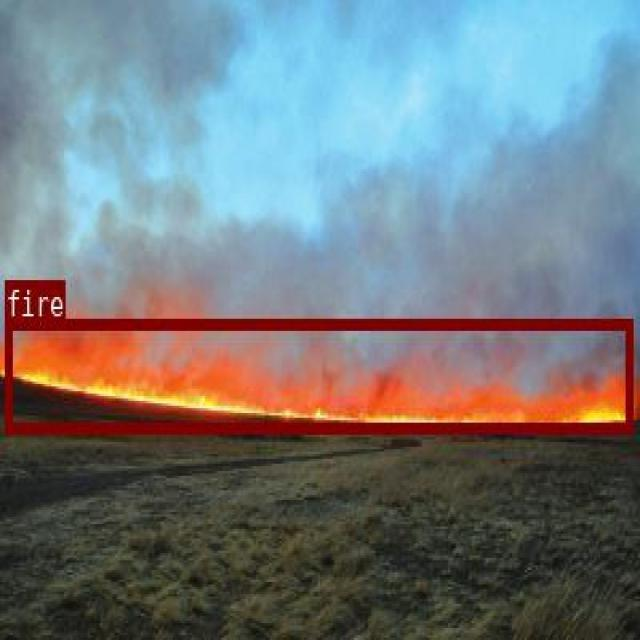fire: (4, 318, 631, 431)
